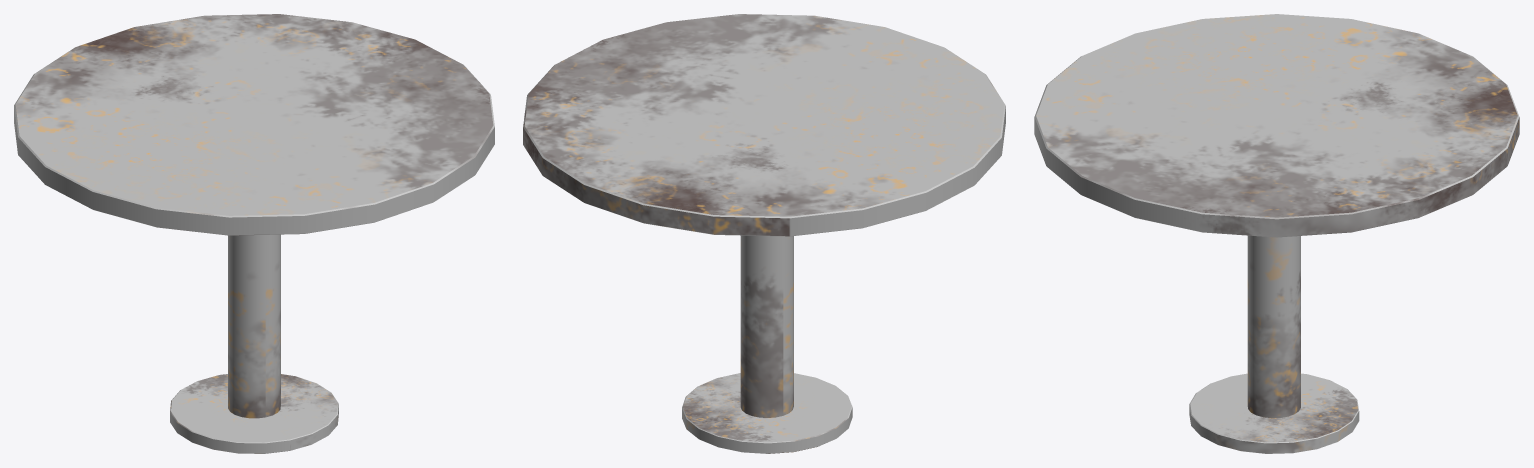
The model's file is metal_table.fbx.
3 views of the same model, side by side, from view 1: azimuth 30°, elevation 25°; view 2: azimuth 150°, elevation 25°; view 3: azimuth 270°, elevation 25° (orthographic).
Visible parts, largest first — view 1: pCylinder13, pCylinder14; view 2: pCylinder13, pCylinder14; view 3: pCylinder13, pCylinder14.
Boxes of the visible parts, bbox=[...] form: pCylinder13: bbox=[14, 14, 494, 235]; pCylinder14: bbox=[170, 234, 338, 453]; pCylinder13: bbox=[523, 14, 1005, 236]; pCylinder14: bbox=[682, 235, 852, 453]; pCylinder13: bbox=[1034, 14, 1519, 237]; pCylinder14: bbox=[1189, 235, 1359, 453].
Size of the model in its own units: 0.997 by 0.688 by 0.997.
